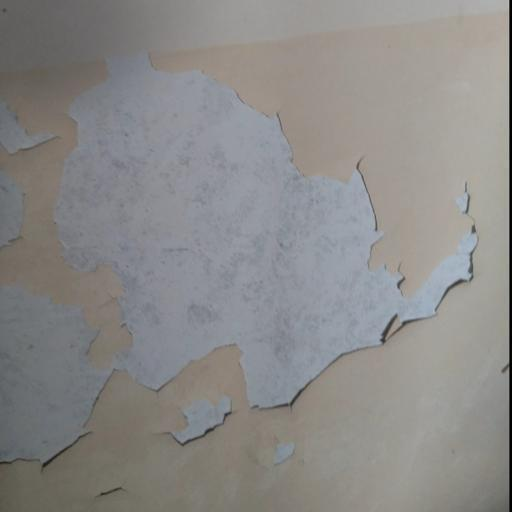peeling: (0, 21, 495, 449)
